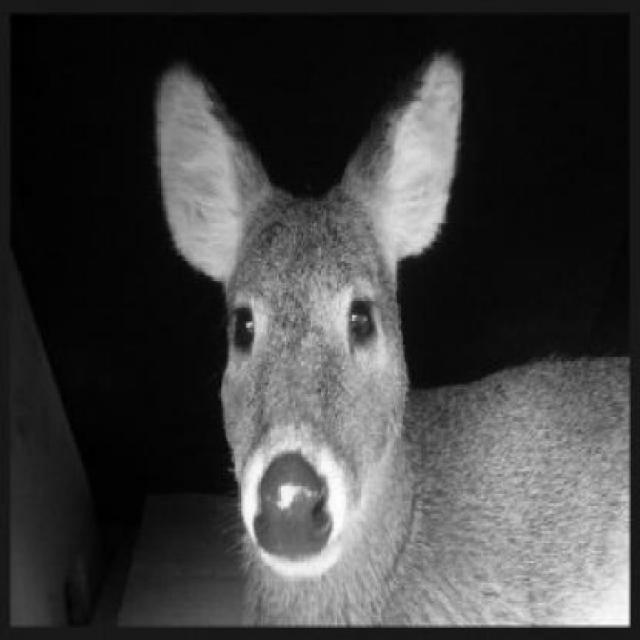Deer: (138, 50, 638, 638)
